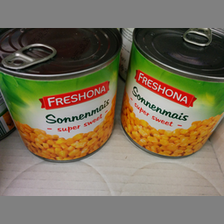corn: (1, 28, 121, 164), (121, 29, 224, 159)
